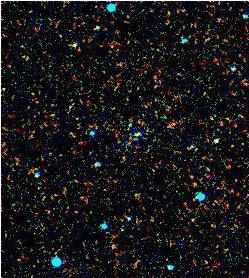star: (122, 120, 152, 150)
